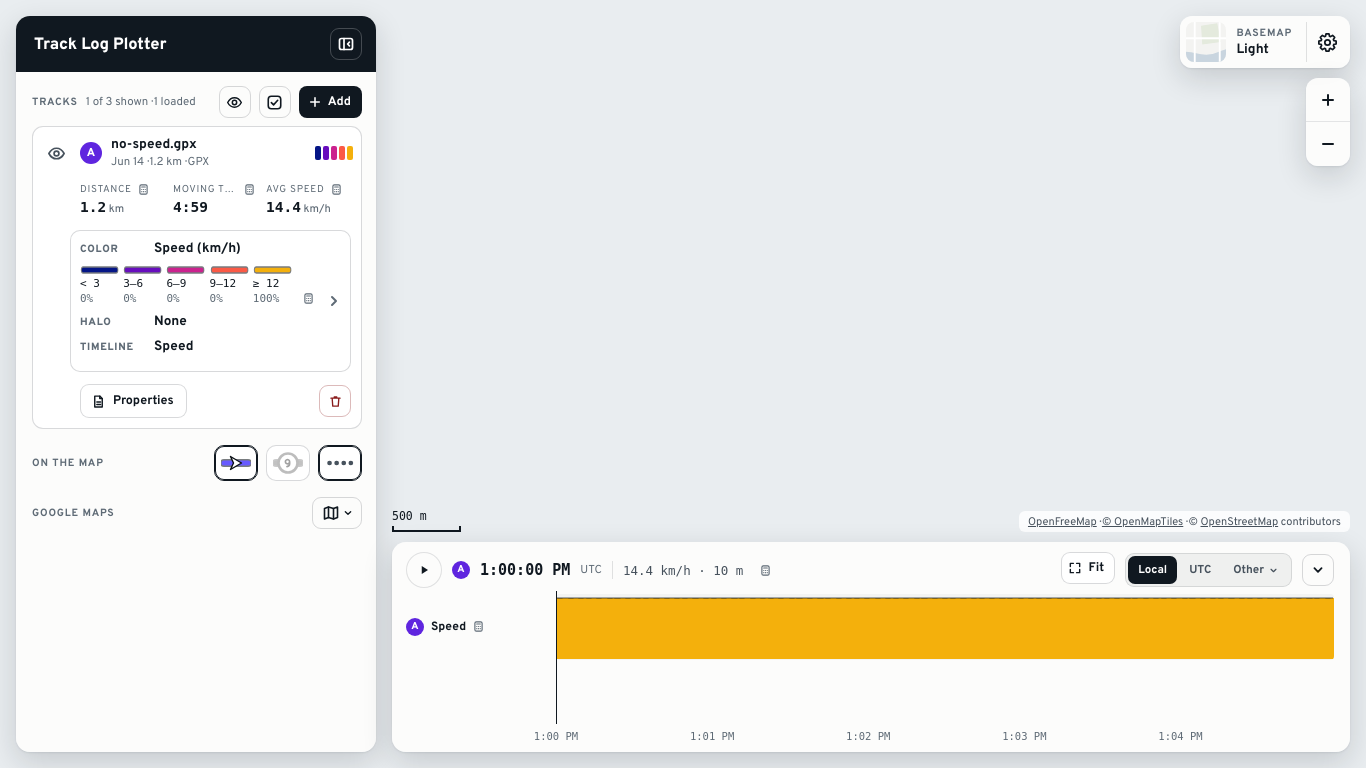
Test: computed values › says when speed is worked out from positions
Click the button named "Color" at (210,301), box [70,230,351,372]
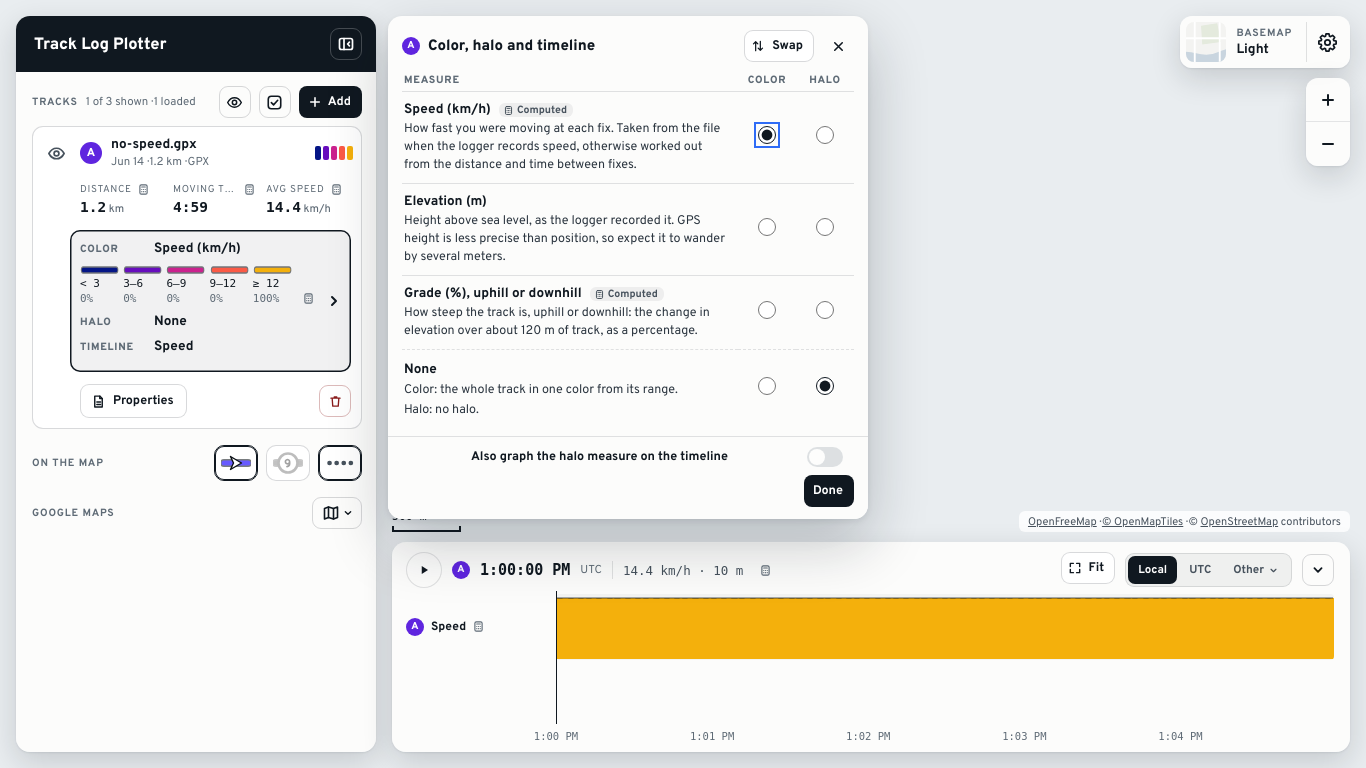
Check: the 1st text "Computed" is shown, box [499,102,573,116]
Check: the text "Computed" next to "Grade (%), uphill or downhill" is shown, box [608,288,658,300]
